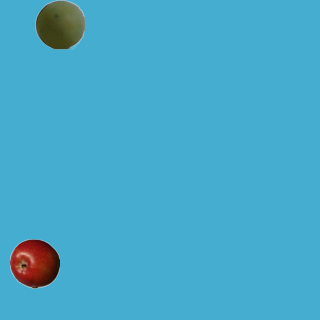Apple Braeburn: (9, 238, 59, 288)
Grape White 4: (34, 0, 84, 49)
